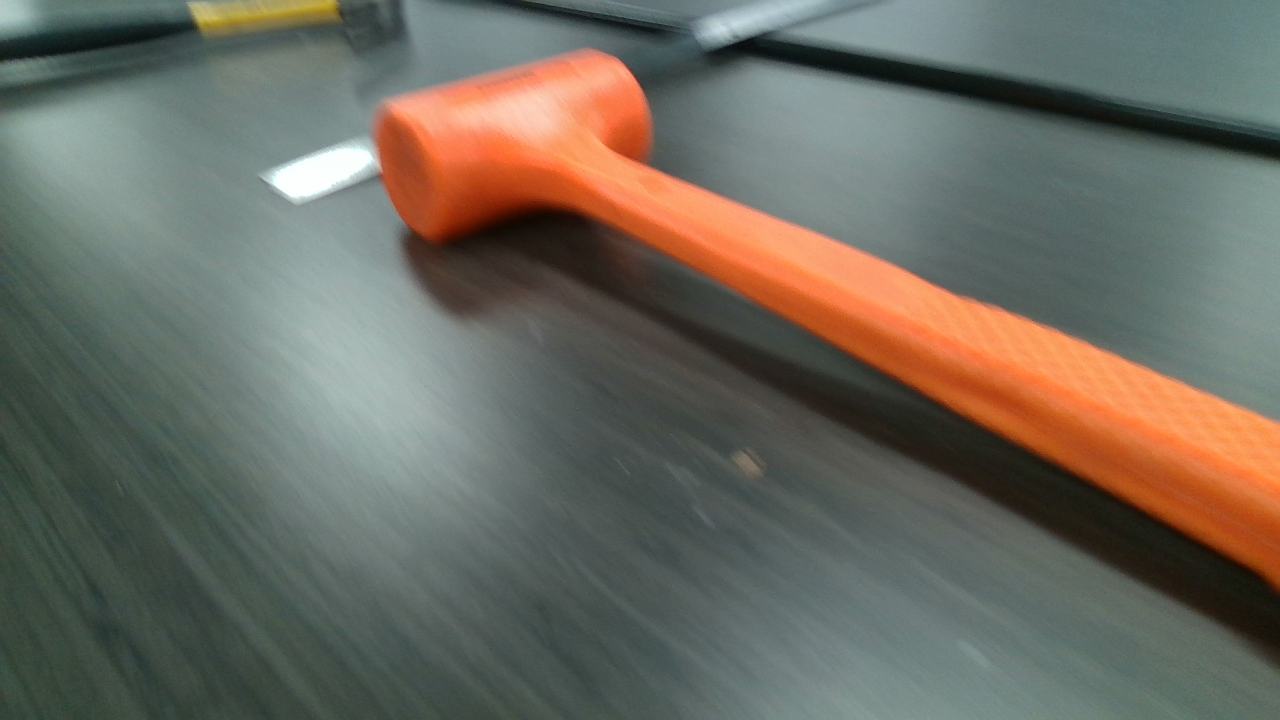Orange Hammer: (378, 49, 1280, 593)
